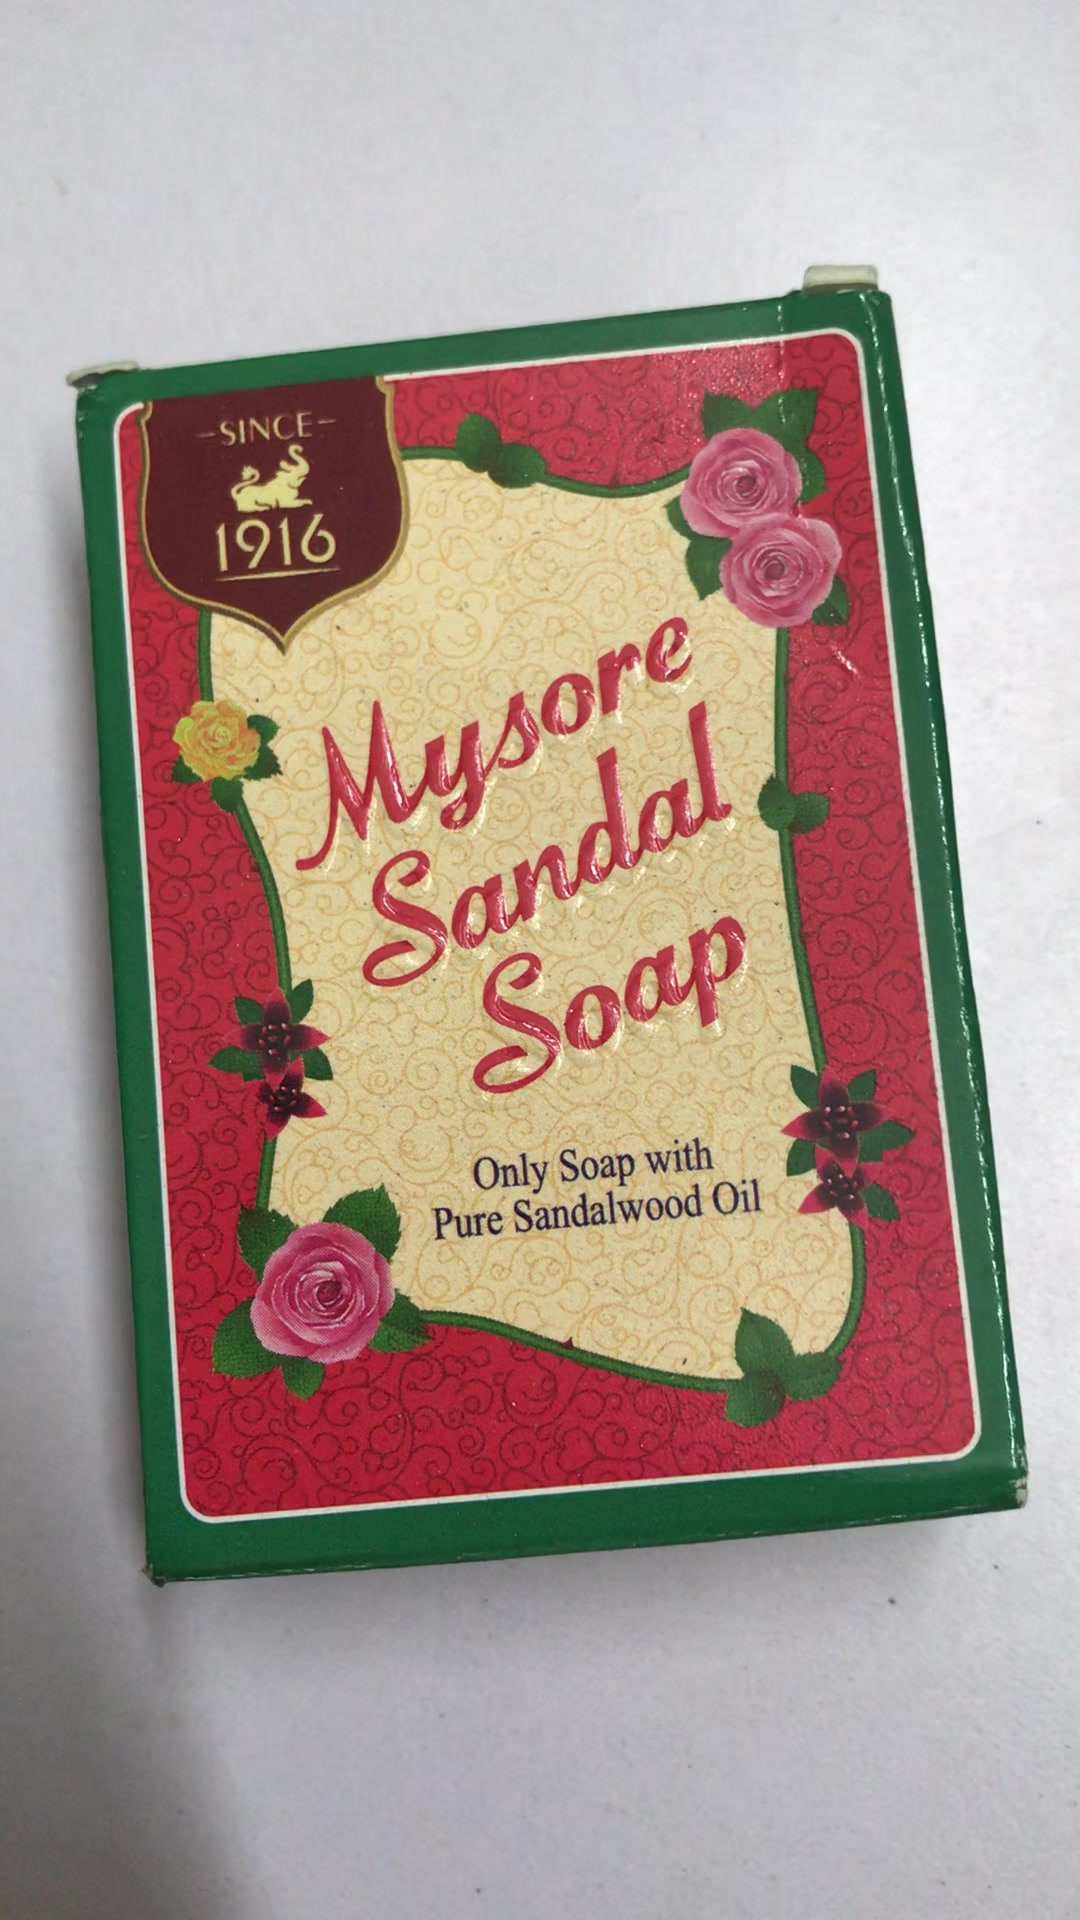mysore sandal soap: (65, 256, 1033, 1590)
